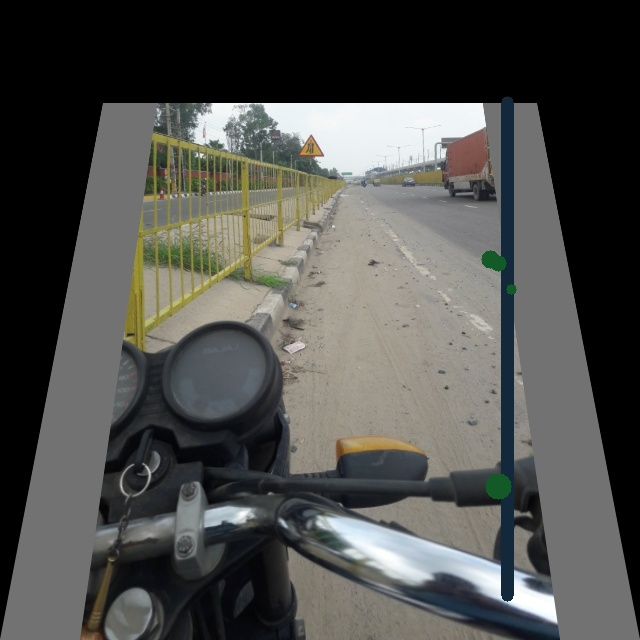Merge_Traffic_Ahead: (296, 130, 329, 160)
